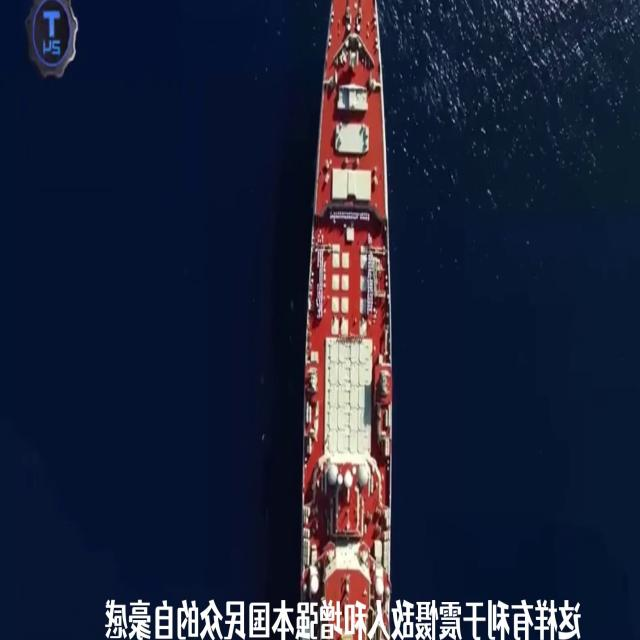navalvessels: (296, 0, 411, 640)
